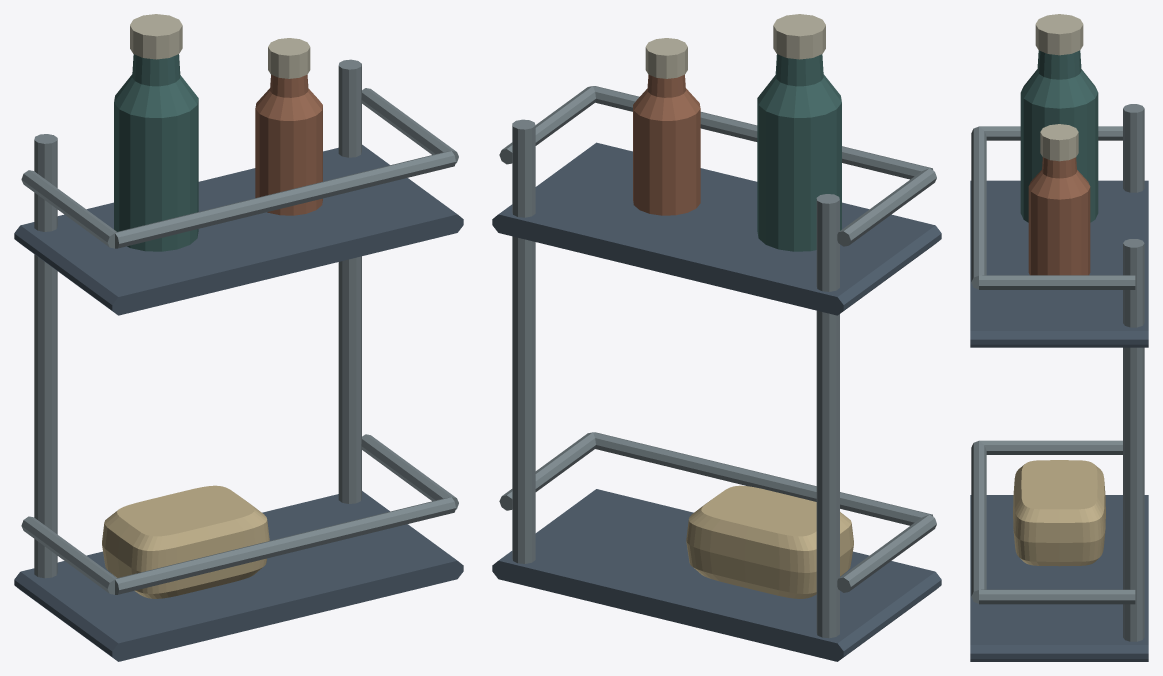
File: W-03_soap_caddy.glb
3 views of the same model, side by side, from view 1: azimuth 30°, elevation 25°; view 2: azimuth 150°, elevation 25°; view 3: azimuth 270°, elevation 25° (orthographic). The views are drawn at different scales.
Parts seen in each view (by area): view 1: W-03_soap_caddy; view 2: W-03_soap_caddy; view 3: W-03_soap_caddy.
Boxes of the visible parts, box(x1,y1,x2,y2) form: W-03_soap_caddy: box(14, 14, 463, 661); W-03_soap_caddy: box(492, 14, 941, 661); W-03_soap_caddy: box(970, 14, 1148, 661).
Size of the model in its own units: 0.238 by 0.375 by 0.115.
